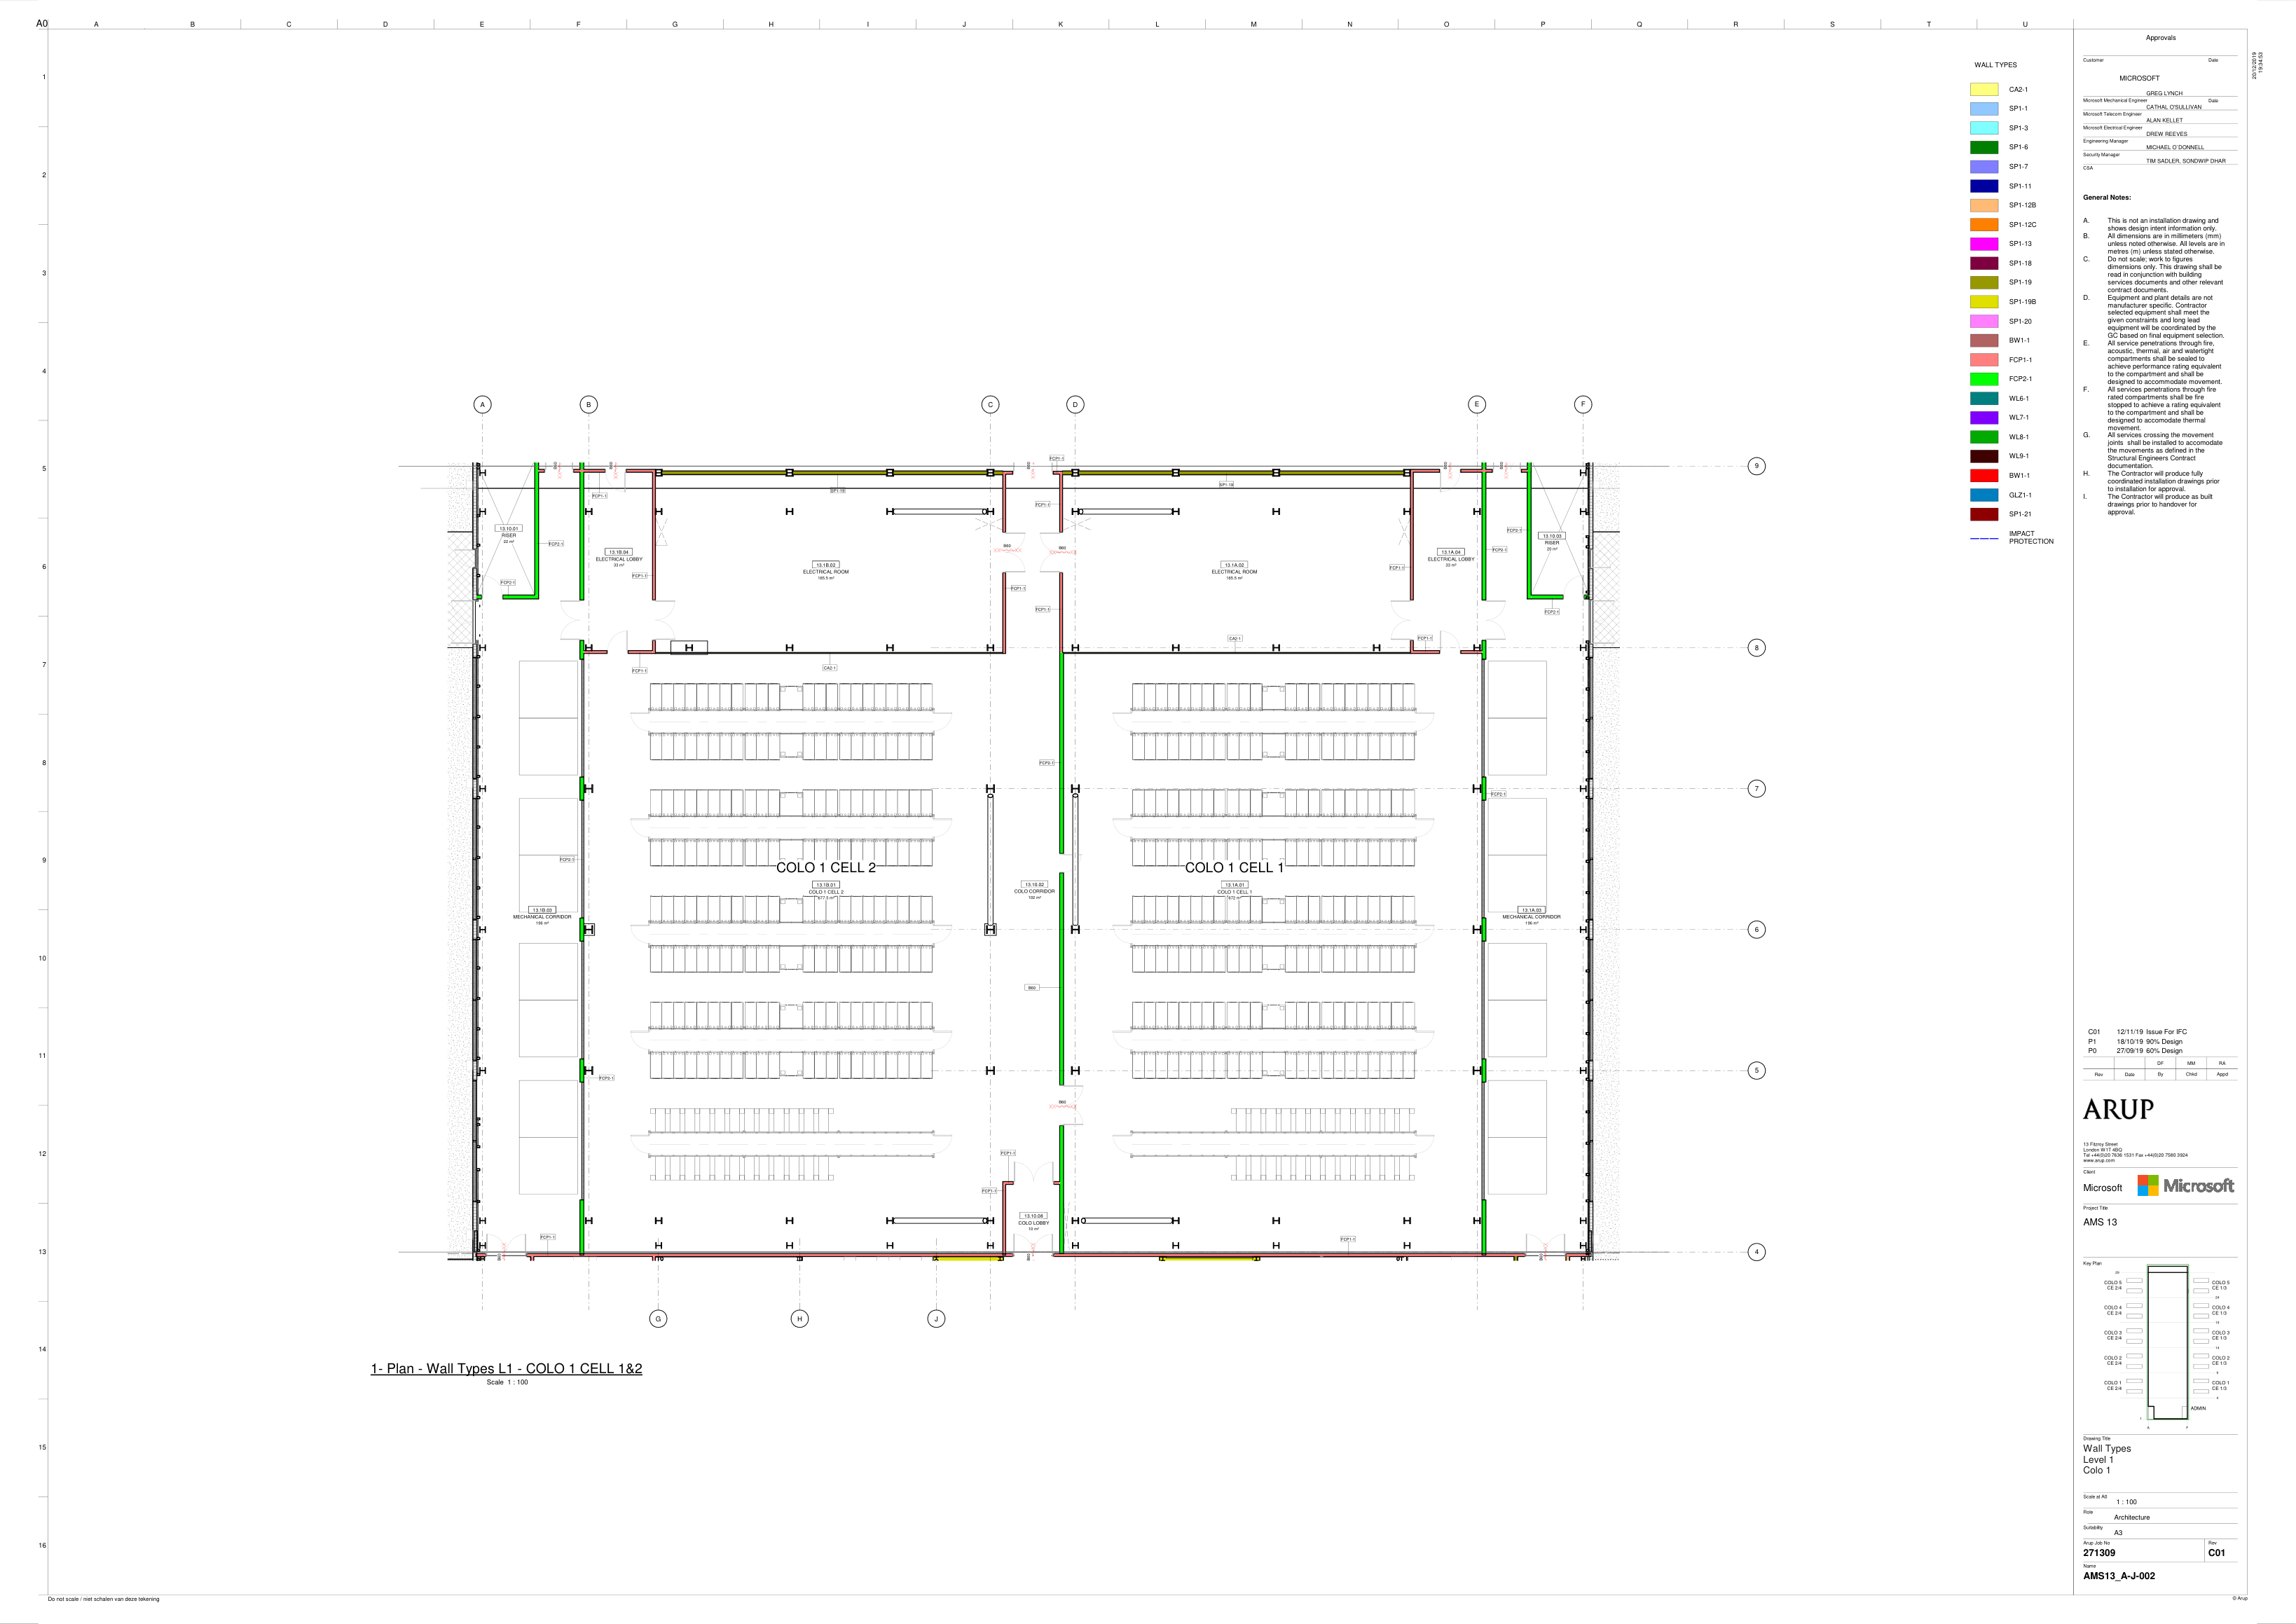Legend: (1967, 60, 2057, 547)
